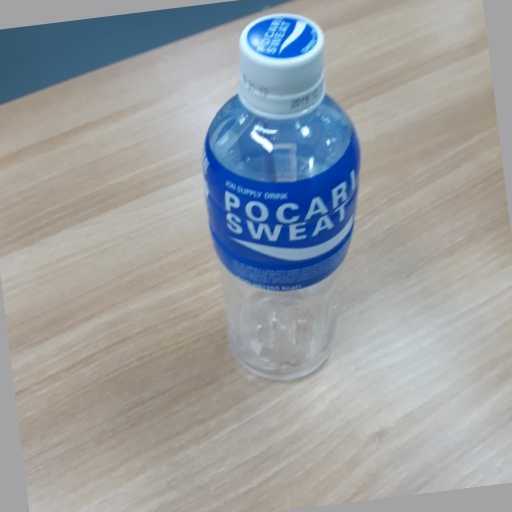Plastic_0: (199, 13, 361, 382)
